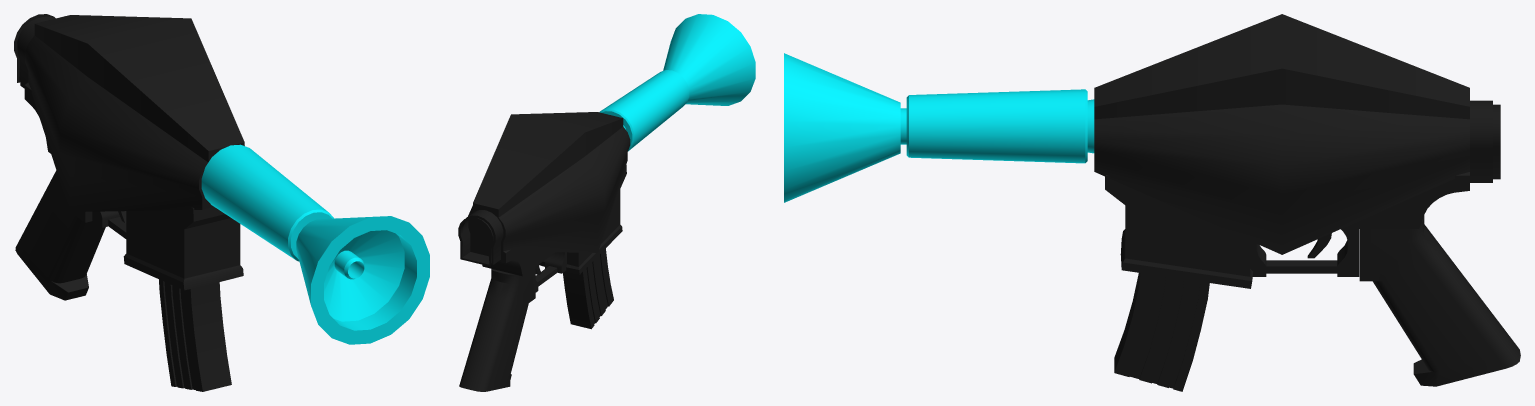
Rendered from AlienWeapon.fbx.
3 renders of one model, left to right at view 1: azimuth 30°, elevation 25°; view 2: azimuth 150°, elevation 25°; view 3: azimuth 270°, elevation 25°, orthographic. The views are drawn at different scales.
Visible parts, largest first — view 1: Uzayli Silahı; view 2: Uzayli Silahı; view 3: Uzayli Silahı.
Boxes of the visible parts, x1,y1,x2,y2 form: Uzayli Silahı: (14, 14, 429, 391); Uzayli Silahı: (458, 14, 755, 391); Uzayli Silahı: (784, 14, 1520, 391).
Bounding box in the file's own units: 54.9 × 105 × 205.
